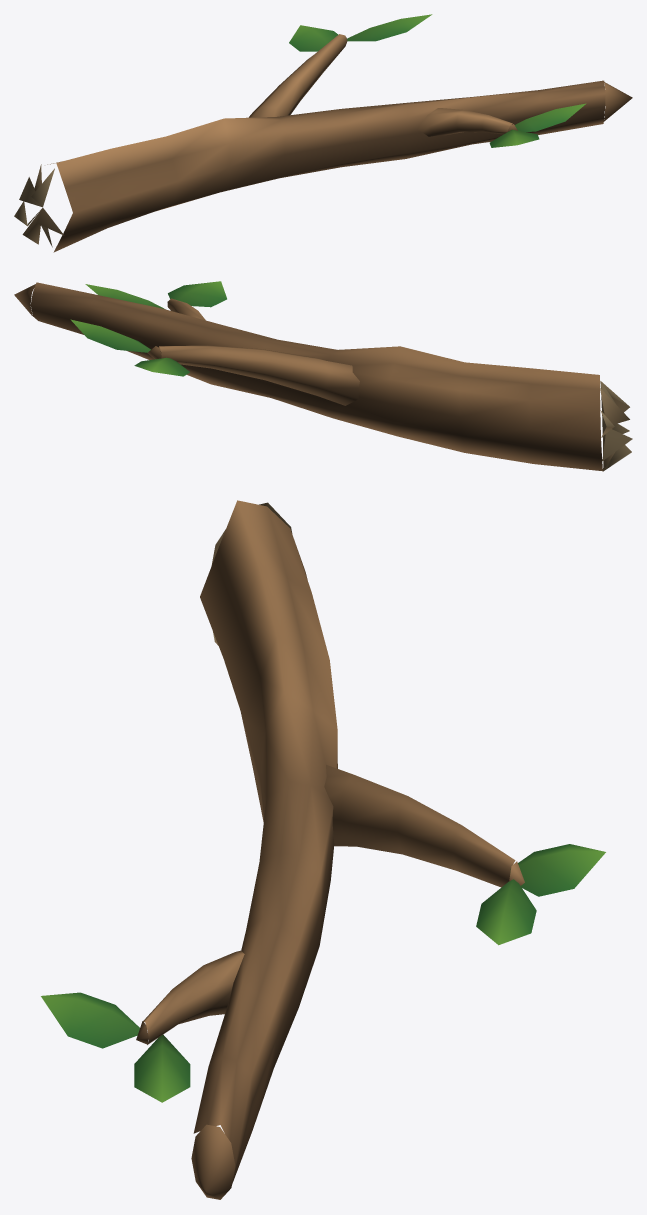
File: node-branch-v1.glb
The picture shows the model from 3 angles, top to bottom: view 1: azimuth 30°, elevation 25°; view 2: azimuth 150°, elevation 25°; view 3: azimuth 270°, elevation 25°; orthographic projection. The views are drawn at different scales.
Visible parts, largest first — view 1: 0_branch; view 2: 0_branch; view 3: 0_branch.
Part boxes in pixels (x1,y1,x2,y2): 0_branch: [14, 14, 632, 252]; 0_branch: [14, 281, 632, 471]; 0_branch: [41, 500, 605, 1199].
Bounding box in the file's own units: 1.05 × 0.1486 × 0.4255.
